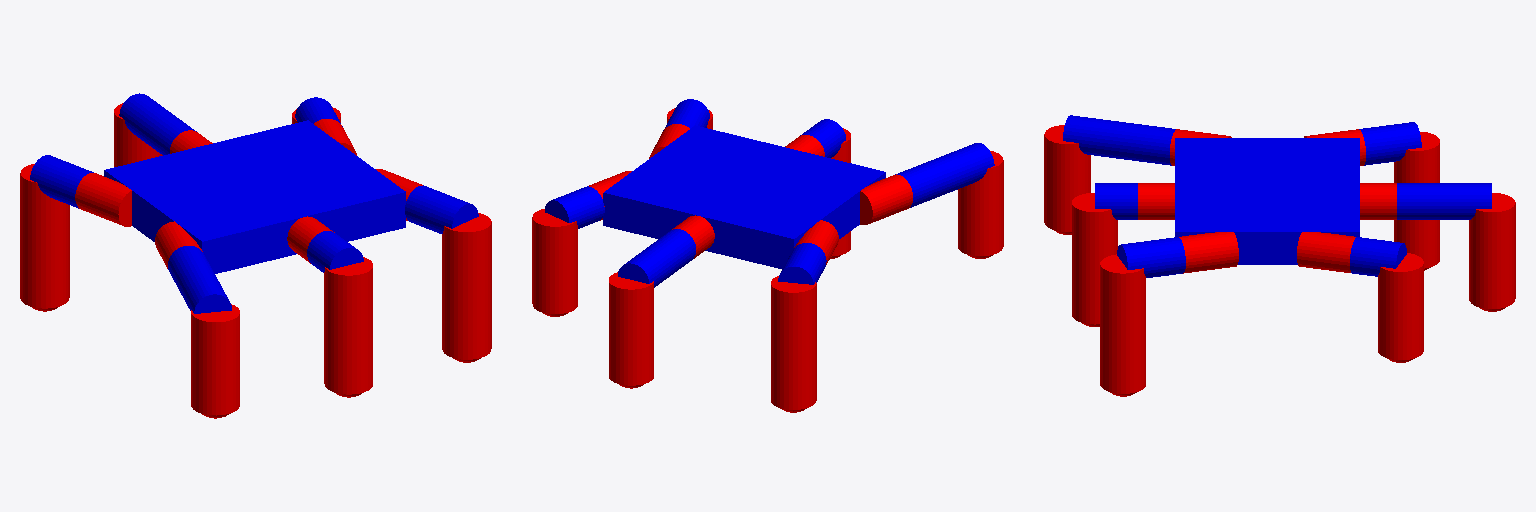
--- Facts derived from the render (not from the file) ---
The picture shows the robot from 3 angles, left to right: view 1: azimuth 30°, elevation 25°; view 2: azimuth 150°, elevation 25°; view 3: azimuth 270°, elevation 25°; orthographic projection.
Model pexod with 19 links and 18 joints (18 revolute), rooted at base_link, posed all joints at 0.
Links seen in each view (by area): view 1: base_link, leg_3_3, leg_4_3, leg_0_3, leg_5_3, leg_5_2, leg_1_2, leg_3_2, leg_0_1, leg_0_2, leg_4_2, leg_1_3 (+5 smaller); view 2: base_link, leg_0_3, leg_1_3, leg_2_3, leg_5_3, leg_5_2, leg_1_2, leg_5_1, leg_2_2, leg_0_2, leg_4_2, leg_3_2 (+3 smaller); view 3: base_link, leg_3_3, leg_1_3, leg_2_3, leg_4_3, leg_5_2, leg_5_3, leg_0_3, leg_1_2, leg_3_2, leg_3_1, leg_2_1 (+5 smaller).
Boxes of the visible links, bbox=[...] form: base_link: bbox=[104, 120, 405, 273]; leg_3_3: bbox=[442, 213, 491, 362]; leg_4_3: bbox=[324, 257, 372, 397]; leg_0_3: bbox=[20, 164, 69, 311]; leg_5_3: bbox=[191, 304, 239, 418]; leg_5_2: bbox=[168, 246, 231, 313]; leg_1_2: bbox=[119, 93, 196, 155]; leg_3_2: bbox=[405, 185, 478, 233]; leg_0_1: bbox=[75, 173, 131, 226]; leg_0_2: bbox=[30, 155, 93, 208]; leg_4_2: bbox=[307, 231, 363, 272]; leg_1_3: bbox=[114, 103, 162, 166]; base_link: bbox=[603, 125, 885, 268]; leg_0_3: bbox=[771, 276, 816, 412]; leg_1_3: bbox=[609, 272, 653, 388]; leg_2_3: bbox=[532, 209, 577, 316]; leg_5_3: bbox=[958, 151, 1003, 258]; leg_5_2: bbox=[895, 143, 994, 207]; leg_1_2: bbox=[618, 229, 695, 287]; leg_5_1: bbox=[860, 174, 912, 224]; leg_2_2: bbox=[545, 186, 604, 228]; leg_0_2: bbox=[778, 243, 826, 284]; leg_4_2: bbox=[800, 119, 845, 157]; leg_3_2: bbox=[663, 99, 709, 130]; base_link: bbox=[1175, 138, 1359, 264]; leg_3_3: bbox=[1100, 254, 1145, 396]; leg_1_3: bbox=[1469, 193, 1515, 311]; leg_2_3: bbox=[1378, 253, 1423, 362]; leg_4_3: bbox=[1072, 193, 1117, 326]; leg_5_2: bbox=[1063, 115, 1175, 165]; leg_5_3: bbox=[1044, 125, 1090, 234]; leg_0_3: bbox=[1394, 132, 1439, 270]; leg_1_2: bbox=[1397, 183, 1491, 219]; leg_3_2: bbox=[1117, 237, 1185, 277]; leg_3_1: bbox=[1179, 232, 1238, 273]; leg_2_1: bbox=[1297, 232, 1355, 272].
Size in the robot's own frame: 0.3802 by 0.5086 by 0.1759 metres.
Geometry: primitives only (box / cylinder / sphere), no mesh files.

robot.urdf — pexod:
<?xml version="1.0" ?>
<!-- =================================================================================== -->
<!-- |    This document was autogenerated by xacro from pexod.xacro                    | -->
<!-- |    EDITING THIS FILE BY HAND IS NOT RECOMMENDED                                 | -->
<!-- =================================================================================== -->
<robot name="pexod" xmlns:xacro="http://www.ros.org/wiki/xacro">
  <!-- <xacro:include filename="$(find pexod_description)/urdf/pexod_control.xacro" /> -->
  <!-- MATERIALS -->
  <material name="Blue">
    <color rgba="0 0 1 1"/>
  </material>
  <material name="Red">
    <color rgba="1 0 0 1"/>
  </material>
  <material name="Green">
    <color rgba="0 1 0 1"/>
  </material>
  <material name="Yellow">
    <color rgba="1 1 0 1"/>
  </material>
  <material name="LightGrey">
    <color rgba="0.6 0.6 0.6 1.0"/>
  </material>
  <!-- END OF MATERIALS -->
  <!-- XACRO MACROS FOR VISUALS AND COLLISIONS -->
  <!-- END OF XACRO MACROS -->
  <!-- TORSO -->
  <link name="base_link">
    <visual>
      <origin rpy="0 0 0" xyz="0 0 0"/>
      <geometry>
        <box size="0.24 0.2 0.04"/>
      </geometry>
      <material name="Blue"/>
    </visual>
    <collision>
      <origin rpy="0 0 0" xyz="0 0 0"/>
      <geometry>
        <box size="0.24 0.2 0.04"/>
      </geometry>
    </collision>
    <inertial>
      <!-- CENTER OF MASS -->
      <origin rpy="0 0 0" xyz="0 0 0"/>
      <mass value="1.031"/>
      <!-- box inertia: 1/12*m(y^2+z^2), ... -->
      <inertia ixx="0.00357413333333" ixy="0" ixz="0" iyy="0.00508626666667" iyz="0" izz="0.00838546666667"/>
    </inertial>
  </link>
  <!-- XACRO MACRO FOR LEGS LINKS/JOINTS -->
  <!-- END OF LEG LINKS/JOINTS -->
  <joint name="body_leg_2" type="revolute">
    <parent link="base_link"/>
    <child link="leg_2_1"/>
    <limit effort="30.0" lower="-1.57079632679" upper="1.57079632679" velocity="7.0"/>
    <origin rpy="0 0 -0.3" xyz="0.11 0.04 0"/>
    <!-- <xacro:if value="${index == 5 or index == 4 or index == 3}">
                <axis xyz="0 0 1"/>
            </xacro:if>
            <xacro:if value="${index == 2 or index == 1 or index == 0}"> -->
    <axis xyz="0 0 1"/>
    <!-- </xacro:if> -->
    <dynamics damping="0.0"/>
  </joint>
  <link name="leg_2_1">
    <visual>
      <origin rpy="1.57079632679 0 0" xyz="0.01 0.03 0"/>
      <geometry>
        <cylinder length="0.06" radius="0.02"/>
      </geometry>
      <material name="Red"/>
    </visual>
    <collision>
      <origin rpy="1.57079632679 0 0" xyz="0.01 0.03 0"/>
      <geometry>
        <box size="0.02 0.02 0.06"/>
      </geometry>
    </collision>
    <inertial>
      <!-- CENTER OF MASS -->
      <origin rpy="1.57079632679 0 0" xyz="0.01 0.03 0"/>
      <mass value="0.02"/>
      <!-- box inertia: 1/12*m(y^2+z^2), ... -->
      <inertia ixx="6.66666666667e-06" ixy="0" ixz="0" iyy="6.66666666667e-06" iyz="0" izz="1.33333333333e-06"/>
    </inertial>
  </link>
  <joint name="leg_2_1_2" type="revolute">
    <parent link="leg_2_1"/>
    <child link="leg_2_2"/>
    <limit effort="30.0" lower="-0.78539816339" upper="0.78539816339" velocity="7.0"/>
    <origin rpy="0 0 0" xyz="0 0.06 0"/>
    <axis xyz="1 0 0"/>
    <dynamics damping="0.0"/>
  </joint>
  <link name="leg_2_2">
    <visual>
      <origin rpy="1.57079632679 0 0" xyz="0.01 0.0261431791119 0"/>
      <geometry>
        <cylinder length="0.0522863582237" radius="0.02"/>
      </geometry>
      <material name="Blue"/>
    </visual>
    <collision>
      <origin rpy="1.57079632679 0 0" xyz="0.01 0.0261431791119 0"/>
      <geometry>
        <box size="0.02 0.02 0.0522863582237"/>
      </geometry>
    </collision>
    <inertial>
      <!-- CENTER OF MASS -->
      <origin rpy="1.57079632679 0 0" xyz="0.01 0.0261431791119 0"/>
      <mass value="0.184"/>
      <!-- box inertia: 1/12*m(y^2+z^2), ... -->
      <inertia ixx="4.80525699299e-05" ixy="0" ixz="0" iyy="4.80525699299e-05" iyz="0" izz="1.22666666667e-05"/>
    </inertial>
  </link>
  <joint name="leg_2_2_3" type="revolute">
    <parent link="leg_2_2"/>
    <child link="leg_2_3"/>
    <limit effort="30.0" lower="-0.78539816339" upper="0.78539816339" velocity="7.0"/>
    <origin rpy="-1.57079632679 0 0" xyz="0 0.0522863582237 0"/>
    <axis xyz="-1 0 0"/>
    <dynamics damping="0.0"/>
  </joint>
  <link name="leg_2_3">
    <visual>
      <origin rpy="1.57079632679 0 0" xyz="0.0125 0.052553422207 0"/>
      <geometry>
        <cylinder length="0.105106844414" radius="0.025"/>
      </geometry>
      <material name="Red"/>
    </visual>
    <visual>
      <origin rpy="1.57079632679 0 0" xyz="0.0125 0.092606844414 0"/>
      <geometry>
        <sphere radius="0.025"/>
      </geometry>
      <material name="Red"/>
    </visual>
    <collision>
      <origin rpy="1.57079632679 0 0" xyz="0.0125 0.052553422207 0"/>
      <geometry>
        <box size="0.025 0.025 0.105106844414"/>
      </geometry>
    </collision>
    <collision>
      <origin rpy="1.57079632679 0 0" xyz="0.0125 0.092606844414 0"/>
      <geometry>
        <sphere radius="0.025"/>
      </geometry>
      <material name="Red"/>
    </collision>
    <inertial>
      <!-- CENTER OF MASS -->
      <origin rpy="1.57079632679 0 0" xyz="0.0125 0.052553422207 0"/>
      <mass value="0.04"/>
      <!-- box inertia: 1/12*m(y^2+z^2), ... -->
      <inertia ixx="3.89081624756e-05" ixy="0" ixz="0" iyy="3.89081624756e-05" iyz="0" izz="4.16666666667e-06"/>
    </inertial>
  </link>
  <joint name="body_leg_3" type="revolute">
    <parent link="base_link"/>
    <child link="leg_3_1"/>
    <limit effort="30.0" lower="-1.57079632679" upper="1.57079632679" velocity="7.0"/>
    <origin rpy="0 0 0.3" xyz="0.11 -0.04 0"/>
    <!-- <xacro:if value="${index == 5 or index == 4 or index == 3}">
                <axis xyz="0 0 1"/>
            </xacro:if>
            <xacro:if value="${index == 2 or index == 1 or index == 0}"> -->
    <axis xyz="0 0 1"/>
    <!-- </xacro:if> -->
    <dynamics damping="0.0"/>
  </joint>
  <link name="leg_3_1">
    <visual>
      <origin rpy="1.57079632679 0 0" xyz="0.01 -0.03 0"/>
      <geometry>
        <cylinder length="0.06" radius="0.02"/>
      </geometry>
      <material name="Red"/>
    </visual>
    <collision>
      <origin rpy="1.57079632679 0 0" xyz="0.01 -0.03 0"/>
      <geometry>
        <box size="0.02 0.02 0.06"/>
      </geometry>
    </collision>
    <inertial>
      <!-- CENTER OF MASS -->
      <origin rpy="1.57079632679 0 0" xyz="0.01 -0.03 0"/>
      <mass value="0.02"/>
      <!-- box inertia: 1/12*m(y^2+z^2), ... -->
      <inertia ixx="6.66666666667e-06" ixy="0" ixz="0" iyy="6.66666666667e-06" iyz="0" izz="1.33333333333e-06"/>
    </inertial>
  </link>
  <joint name="leg_3_1_2" type="revolute">
    <parent link="leg_3_1"/>
    <child link="leg_3_2"/>
    <limit effort="30.0" lower="-0.78539816339" upper="0.78539816339" velocity="7.0"/>
    <origin rpy="0 0 0" xyz="0 -0.06 0"/>
    <axis xyz="-1 0 0"/>
    <dynamics damping="0.0"/>
  </joint>
  <link name="leg_3_2">
    <visual>
      <origin rpy="1.57079632679 0 0" xyz="0.01 -0.0326966292949 0"/>
      <geometry>
        <cylinder length="0.0653932585898" radius="0.02"/>
      </geometry>
      <material name="Blue"/>
    </visual>
    <collision>
      <origin rpy="1.57079632679 0 0" xyz="0.01 -0.0326966292949 0"/>
      <geometry>
        <box size="0.02 0.02 0.0653932585898"/>
      </geometry>
    </collision>
    <inertial>
      <!-- CENTER OF MASS -->
      <origin rpy="1.57079632679 0 0" xyz="0.01 -0.0326966292949 0"/>
      <mass value="0.184"/>
      <!-- box inertia: 1/12*m(y^2+z^2), ... -->
      <inertia ixx="7.17029334579e-05" ixy="0" ixz="0" iyy="7.17029334579e-05" iyz="0" izz="1.22666666667e-05"/>
    </inertial>
  </link>
  <joint name="leg_3_2_3" type="revolute">
    <parent link="leg_3_2"/>
    <child link="leg_3_3"/>
    <limit effort="30.0" lower="-0.78539816339" upper="0.78539816339" velocity="7.0"/>
    <origin rpy="1.57079632679 0 0" xyz="0 -0.0653932585898 0"/>
    <axis xyz="1 0 0"/>
    <dynamics damping="0.0"/>
  </joint>
  <link name="leg_3_3">
    <visual>
      <origin rpy="1.57079632679 0 0" xyz="0.0125 -0.071716088422 0"/>
      <geometry>
        <cylinder length="0.143432176844" radius="0.025"/>
      </geometry>
      <material name="Red"/>
    </visual>
    <visual>
      <origin rpy="1.57079632679 0 0" xyz="0.0125 -0.130932176844 0"/>
      <geometry>
        <sphere radius="0.025"/>
      </geometry>
      <material name="Red"/>
    </visual>
    <collision>
      <origin rpy="1.57079632679 0 0" xyz="0.0125 -0.071716088422 0"/>
      <geometry>
        <box size="0.025 0.025 0.143432176844"/>
      </geometry>
    </collision>
    <collision>
      <origin rpy="1.57079632679 0 0" xyz="0.0125 -0.130932176844 0"/>
      <geometry>
        <sphere radius="0.025"/>
      </geometry>
      <material name="Red"/>
    </collision>
    <inertial>
      <!-- CENTER OF MASS -->
      <origin rpy="1.57079632679 0 0" xyz="0.0125 -0.071716088422 0"/>
      <mass value="0.04"/>
      <!-- box inertia: 1/12*m(y^2+z^2), ... -->
      <inertia ixx="7.06592978474e-05" ixy="0" ixz="0" iyy="7.06592978474e-05" iyz="0" izz="4.16666666667e-06"/>
    </inertial>
  </link>
  <joint name="body_leg_0" type="revolute">
    <parent link="base_link"/>
    <child link="leg_0_1"/>
    <limit effort="30.0" lower="-1.57079632679" upper="1.57079632679" velocity="7.0"/>
    <origin rpy="0 0 0.3" xyz="-0.13 0.04 0"/>
    <!-- <xacro:if value="${index == 5 or index == 4 or index == 3}">
                <axis xyz="0 0 1"/>
            </xacro:if>
            <xacro:if value="${index == 2 or index == 1 or index == 0}"> -->
    <axis xyz="0 0 1"/>
    <!-- </xacro:if> -->
    <dynamics damping="0.0"/>
  </joint>
  <link name="leg_0_1">
    <visual>
      <origin rpy="1.57079632679 0 0" xyz="0.01 0.03 0"/>
      <geometry>
        <cylinder length="0.06" radius="0.02"/>
      </geometry>
      <material name="Red"/>
    </visual>
    <collision>
      <origin rpy="1.57079632679 0 0" xyz="0.01 0.03 0"/>
      <geometry>
        <box size="0.02 0.02 0.06"/>
      </geometry>
    </collision>
    <inertial>
      <!-- CENTER OF MASS -->
      <origin rpy="1.57079632679 0 0" xyz="0.01 0.03 0"/>
      <mass value="0.02"/>
      <!-- box inertia: 1/12*m(y^2+z^2), ... -->
      <inertia ixx="6.66666666667e-06" ixy="0" ixz="0" iyy="6.66666666667e-06" iyz="0" izz="1.33333333333e-06"/>
    </inertial>
  </link>
  <joint name="leg_0_1_2" type="revolute">
    <parent link="leg_0_1"/>
    <child link="leg_0_2"/>
    <limit effort="30.0" lower="-0.78539816339" upper="0.78539816339" velocity="7.0"/>
    <origin rpy="0 0 0" xyz="0 0.06 0"/>
    <axis xyz="1 0 0"/>
    <dynamics damping="0.0"/>
  </joint>
  <link name="leg_0_2">
    <visual>
      <origin rpy="1.57079632679 0 0" xyz="0.01 0.0314343594248 0"/>
      <geometry>
        <cylinder length="0.0628687188497" radius="0.02"/>
      </geometry>
      <material name="Blue"/>
    </visual>
    <collision>
      <origin rpy="1.57079632679 0 0" xyz="0.01 0.0314343594248 0"/>
      <geometry>
        <box size="0.02 0.02 0.0628687188497"/>
      </geometry>
    </collision>
    <inertial>
      <!-- CENTER OF MASS -->
      <origin rpy="1.57079632679 0 0" xyz="0.01 0.0314343594248 0"/>
      <mass value="0.184"/>
      <!-- box inertia: 1/12*m(y^2+z^2), ... -->
      <inertia ixx="6.6737962417e-05" ixy="0" ixz="0" iyy="6.6737962417e-05" iyz="0" izz="1.22666666667e-05"/>
    </inertial>
  </link>
  <joint name="leg_0_2_3" type="revolute">
    <parent link="leg_0_2"/>
    <child link="leg_0_3"/>
    <limit effort="30.0" lower="-0.78539816339" upper="0.78539816339" velocity="7.0"/>
    <origin rpy="-1.57079632679 0 0" xyz="0 0.0628687188497 0"/>
    <axis xyz="-1 0 0"/>
    <dynamics damping="0.0"/>
  </joint>
  <link name="leg_0_3">
    <visual>
      <origin rpy="1.57079632679 0 0" xyz="0.0125 0.0704255470545 0"/>
      <geometry>
        <cylinder length="0.140851094109" radius="0.025"/>
      </geometry>
      <material name="Red"/>
    </visual>
    <visual>
      <origin rpy="1.57079632679 0 0" xyz="0.0125 0.128351094109 0"/>
      <geometry>
        <sphere radius="0.025"/>
      </geometry>
      <material name="Red"/>
    </visual>
    <collision>
      <origin rpy="1.57079632679 0 0" xyz="0.0125 0.0704255470545 0"/>
      <geometry>
        <box size="0.025 0.025 0.140851094109"/>
      </geometry>
    </collision>
    <collision>
      <origin rpy="1.57079632679 0 0" xyz="0.0125 0.128351094109 0"/>
      <geometry>
        <sphere radius="0.025"/>
      </geometry>
      <material name="Red"/>
    </collision>
    <inertial>
      <!-- CENTER OF MASS -->
      <origin rpy="1.57079632679 0 0" xyz="0.0125 0.0704255470545 0"/>
      <mass value="0.04"/>
      <!-- box inertia: 1/12*m(y^2+z^2), ... -->
      <inertia ixx="6.82134357057e-05" ixy="0" ixz="0" iyy="6.82134357057e-05" iyz="0" izz="4.16666666667e-06"/>
    </inertial>
  </link>
  <joint name="body_leg_5" type="revolute">
    <parent link="base_link"/>
    <child link="leg_5_1"/>
    <limit effort="30.0" lower="-1.57079632679" upper="1.57079632679" velocity="7.0"/>
    <origin rpy="0 0 -0.3" xyz="-0.13 -0.04 0"/>
    <!-- <xacro:if value="${index == 5 or index == 4 or index == 3}">
                <axis xyz="0 0 1"/>
            </xacro:if>
            <xacro:if value="${index == 2 or index == 1 or index == 0}"> -->
    <axis xyz="0 0 1"/>
    <!-- </xacro:if> -->
    <dynamics damping="0.0"/>
  </joint>
  <link name="leg_5_1">
    <visual>
      <origin rpy="1.57079632679 0 0" xyz="0.01 -0.03 0"/>
      <geometry>
        <cylinder length="0.06" radius="0.02"/>
      </geometry>
      <material name="Red"/>
    </visual>
    <collision>
      <origin rpy="1.57079632679 0 0" xyz="0.01 -0.03 0"/>
      <geometry>
        <box size="0.02 0.02 0.06"/>
      </geometry>
    </collision>
    <inertial>
      <!-- CENTER OF MASS -->
      <origin rpy="1.57079632679 0 0" xyz="0.01 -0.03 0"/>
      <mass value="0.02"/>
      <!-- box inertia: 1/12*m(y^2+z^2), ... -->
      <inertia ixx="6.66666666667e-06" ixy="0" ixz="0" iyy="6.66666666667e-06" iyz="0" izz="1.33333333333e-06"/>
    </inertial>
  </link>
  <joint name="leg_5_1_2" type="revolute">
    <parent link="leg_5_1"/>
    <child link="leg_5_2"/>
    <limit effort="30.0" lower="-0.78539816339" upper="0.78539816339" velocity="7.0"/>
    <origin rpy="0 0 0" xyz="0 -0.06 0"/>
    <axis xyz="-1 0 0"/>
    <dynamics damping="0.0"/>
  </joint>
  <link name="leg_5_2">
    <visual>
      <origin rpy="1.57079632679 0 0" xyz="0.01 -0.060329994036 0"/>
      <geometry>
        <cylinder length="0.120659988072" radius="0.02"/>
      </geometry>
      <material name="Blue"/>
    </visual>
    <collision>
      <origin rpy="1.57079632679 0 0" xyz="0.01 -0.060329994036 0"/>
      <geometry>
        <box size="0.02 0.02 0.120659988072"/>
      </geometry>
    </collision>
    <inertial>
      <!-- CENTER OF MASS -->
      <origin rpy="1.57079632679 0 0" xyz="0.01 -0.060329994036 0"/>
      <mass value="0.184"/>
      <!-- box inertia: 1/12*m(y^2+z^2), ... -->
      <inertia ixx="0.000229368768397" ixy="0" ixz="0" iyy="0.000229368768397" iyz="0" izz="1.22666666667e-05"/>
    </inertial>
  </link>
  <joint name="leg_5_2_3" type="revolute">
    <parent link="leg_5_2"/>
    <child link="leg_5_3"/>
    <limit effort="30.0" lower="-0.78539816339" upper="0.78539816339" velocity="7.0"/>
    <origin rpy="1.57079632679 0 0" xyz="0 -0.120659988072 0"/>
    <axis xyz="1 0 0"/>
    <dynamics damping="0.0"/>
  </joint>
  <link name="leg_5_3">
    <visual>
      <origin rpy="1.57079632679 0 0" xyz="0.0125 -0.0523338663745 0"/>
      <geometry>
        <cylinder length="0.104667732749" radius="0.025"/>
      </geometry>
      <material name="Red"/>
    </visual>
    <visual>
      <origin rpy="1.57079632679 0 0" xyz="0.0125 -0.092167732749 0"/>
      <geometry>
        <sphere radius="0.025"/>
      </geometry>
      <material name="Red"/>
    </visual>
    <collision>
      <origin rpy="1.57079632679 0 0" xyz="0.0125 -0.0523338663745 0"/>
      <geometry>
        <box size="0.025 0.025 0.104667732749"/>
      </geometry>
    </collision>
    <collision>
      <origin rpy="1.57079632679 0 0" xyz="0.0125 -0.092167732749 0"/>
      <geometry>
        <sphere radius="0.025"/>
      </geometry>
      <material name="Red"/>
    </collision>
    <inertial>
      <!-- CENTER OF MASS -->
      <origin rpy="1.57079632679 0 0" xyz="0.0125 -0.0523338663745 0"/>
      <mass value="0.04"/>
      <!-- box inertia: 1/12*m(y^2+z^2), ... -->
      <inertia ixx="3.86011142627e-05" ixy="0" ixz="0" iyy="3.86011142627e-05" iyz="0" izz="4.16666666667e-06"/>
    </inertial>
  </link>
  <joint name="body_leg_1" type="revolute">
    <parent link="base_link"/>
    <child link="leg_1_1"/>
    <limit effort="30.0" lower="-1.57079632679" upper="1.57079632679" velocity="7.0"/>
    <origin rpy="0 0 0" xyz="-0.01 0.08 0"/>
    <!-- <xacro:if value="${index == 5 or index == 4 or index == 3}">
                <axis xyz="0 0 1"/>
            </xacro:if>
            <xacro:if value="${index == 2 or index == 1 or index == 0}"> -->
    <axis xyz="0 0 1"/>
    <!-- </xacro:if> -->
    <dynamics damping="0.0"/>
  </joint>
  <link name="leg_1_1">
    <visual>
      <origin rpy="1.57079632679 0 0" xyz="0.01 0.03 0"/>
      <geometry>
        <cylinder length="0.06" radius="0.02"/>
      </geometry>
      <material name="Red"/>
    </visual>
    <collision>
      <origin rpy="1.57079632679 0 0" xyz="0.01 0.03 0"/>
      <geometry>
        <box size="0.02 0.02 0.06"/>
      </geometry>
    </collision>
    <inertial>
      <!-- CENTER OF MASS -->
      <origin rpy="1.57079632679 0 0" xyz="0.01 0.03 0"/>
      <mass value="0.02"/>
      <!-- box inertia: 1/12*m(y^2+z^2), ... -->
      <inertia ixx="6.66666666667e-06" ixy="0" ixz="0" iyy="6.66666666667e-06" iyz="0" izz="1.33333333333e-06"/>
    </inertial>
  </link>
  <joint name="leg_1_1_2" type="revolute">
    <parent link="leg_1_1"/>
    <child link="leg_1_2"/>
    <limit effort="30.0" lower="-0.78539816339" upper="0.78539816339" velocity="7.0"/>
    <origin rpy="0 0 0" xyz="0 0.06 0"/>
    <axis xyz="1 0 0"/>
    <dynamics damping="0.0"/>
  </joint>
  <link name="leg_1_2">
    <visual>
      <origin rpy="1.57079632679 0 0" xyz="0.01 0.0512169972375 0"/>
      <geometry>
        <cylinder length="0.102433994475" radius="0.02"/>
      </geometry>
      <material name="Blue"/>
    </visual>
    <collision>
      <origin rpy="1.57079632679 0 0" xyz="0.01 0.0512169972375 0"/>
      <geometry>
        <box size="0.02 0.02 0.102433994475"/>
      </geometry>
    </collision>
    <inertial>
      <!-- CENTER OF MASS -->
      <origin rpy="1.57079632679 0 0" xyz="0.01 0.0512169972375 0"/>
      <mass value="0.184"/>
      <!-- box inertia: 1/12*m(y^2+z^2), ... -->
      <inertia ixx="0.000167021756103" ixy="0" ixz="0" iyy="0.000167021756103" iyz="0" izz="1.22666666667e-05"/>
    </inertial>
  </link>
  <joint name="leg_1_2_3" type="revolute">
    <parent link="leg_1_2"/>
    <child link="leg_1_3"/>
    <limit effort="30.0" lower="-0.78539816339" upper="0.78539816339" velocity="7.0"/>
    <origin rpy="-1.57079632679 0 0" xyz="0 0.102433994475 0"/>
    <axis xyz="-1 0 0"/>
    <dynamics damping="0.0"/>
  </joint>
  <link name="leg_1_3">
    <visual>
      <origin rpy="1.57079632679 0 0" xyz="0.0125 0.0576909262705 0"/>
      <geometry>
        <cylinder length="0.115381852541" radius="0.025"/>
      </geometry>
      <material name="Red"/>
    </visual>
    <visual>
      <origin rpy="1.57079632679 0 0" xyz="0.0125 0.102881852541 0"/>
      <geometry>
        <sphere radius="0.025"/>
      </geometry>
      <material name="Red"/>
    </visual>
    <collision>
      <origin rpy="1.57079632679 0 0" xyz="0.0125 0.0576909262705 0"/>
      <geometry>
        <box size="0.025 0.025 0.115381852541"/>
      </geometry>
    </collision>
    <collision>
      <origin rpy="1.57079632679 0 0" xyz="0.0125 0.102881852541 0"/>
      <geometry>
        <sphere radius="0.025"/>
      </geometry>
      <material name="Red"/>
    </collision>
    <inertial>
      <!-- CENTER OF MASS -->
      <origin rpy="1.57079632679 0 0" xyz="0.0125 0.0576909262705 0"/>
      <mass value="0.04"/>
      <!-- box inertia: 1/12*m(y^2+z^2), ... -->
      <inertia ixx="4.64599063193e-05" ixy="0" ixz="0" iyy="4.64599063193e-05" iyz="0" izz="4.16666666667e-06"/>
    </inertial>
  </link>
  <joint name="body_leg_4" type="revolute">
    <parent link="base_link"/>
    <child link="leg_4_1"/>
    <limit effort="30.0" lower="-1.57079632679" upper="1.57079632679" velocity="7.0"/>
    <origin rpy="0 0 0" xyz="-0.01 -0.08 0"/>
    <!-- <xacro:if value="${index == 5 or index == 4 or index == 3}">
                <axis xyz="0 0 1"/>
            </xacro:if>
            <xacro:if value="${index == 2 or index == 1 or index == 0}"> -->
    <axis xyz="0 0 1"/>
    <!-- </xacro:if> -->
    <dynamics damping="0.0"/>
  </joint>
  <link name="leg_4_1">
    <visual>
      <origin rpy="1.57079632679 0 0" xyz="0.01 -0.03 0"/>
      <geometry>
        <cylinder length="0.06" radius="0.02"/>
      </geometry>
      <material name="Red"/>
    </visual>
    <collision>
      <origin rpy="1.57079632679 0 0" xyz="0.01 -0.03 0"/>
      <geometry>
        <box size="0.02 0.02 0.06"/>
      </geometry>
    </collision>
    <inertial>
      <!-- CENTER OF MASS -->
      <origin rpy="1.57079632679 0 0" xyz="0.01 -0.03 0"/>
      <mass value="0.02"/>
      <!-- box inertia: 1/12*m(y^2+z^2), ... -->
      <inertia ixx="6.66666666667e-06" ixy="0" ixz="0" iyy="6.66666666667e-06" iyz="0" izz="1.33333333333e-06"/>
    </inertial>
  </link>
  <joint name="leg_4_1_2" type="revolute">
    <parent link="leg_4_1"/>
    <child link="leg_4_2"/>
    <limit effort="30.0" lower="-0.78539816339" upper="0.78539816339" velocity="7.0"/>
    <origin rpy="0 0 0" xyz="0 -0.06 0"/>
    <axis xyz="-1 0 0"/>
    <dynamics damping="0.0"/>
  </joint>
  <link name="leg_4_2">
    <visual>
      <origin rpy="1.57079632679 0 0" xyz="0.01 -0.0233296516256 0"/>
      <geometry>
        <cylinder length="0.0466593032512" radius="0.02"/>
      </geometry>
      <material name="Blue"/>
    </visual>
    <collision>
      <origin rpy="1.57079632679 0 0" xyz="0.01 -0.0233296516256 0"/>
      <geometry>
        <box size="0.02 0.02 0.0466593032512"/>
      </geometry>
    </collision>
    <inertial>
      <!-- CENTER OF MASS -->
      <origin rpy="1.57079632679 0 0" xyz="0.01 -0.0233296516256 0"/>
      <mass value="0.184"/>
      <!-- box inertia: 1/12*m(y^2+z^2), ... -->
      <inertia ixx="3.95153888916e-05" ixy="0" ixz="0" iyy="3.95153888916e-05" iyz="0" izz="1.22666666667e-05"/>
    </inertial>
  </link>
  <joint name="leg_4_2_3" type="revolute">
    <parent link="leg_4_2"/>
    <child link="leg_4_3"/>
    <limit effort="30.0" lower="-0.78539816339" upper="0.78539816339" velocity="7.0"/>
    <origin rpy="1.57079632679 0 0" xyz="0 -0.0466593032512 0"/>
    <axis xyz="1 0 0"/>
    <dynamics damping="0.0"/>
  </joint>
  <link name="leg_4_3">
    <visual>
      <origin rpy="1.57079632679 0 0" xyz="0.0125 -0.0668359815755 0"/>
      <geometry>
        <cylinder length="0.133671963151" radius="0.025"/>
      </geometry>
      <material name="Red"/>
    </visual>
    <visual>
      <origin rpy="1.57079632679 0 0" xyz="0.0125 -0.121171963151 0"/>
      <geometry>
        <sphere radius="0.025"/>
      </geometry>
      <material name="Red"/>
    </visual>
    <collision>
      <origin rpy="1.57079632679 0 0" xyz="0.0125 -0.0668359815755 0"/>
      <geometry>
        <box size="0.025 0.025 0.133671963151"/>
      </geometry>
    </collision>
    <collision>
      <origin rpy="1.57079632679 0 0" xyz="0.0125 -0.121171963151 0"/>
      <geometry>
        <sphere radius="0.025"/>
      </geometry>
      <material name="Red"/>
    </collision>
    <inertial>
      <!-- CENTER OF MASS -->
      <origin rpy="1.57079632679 0 0" xyz="0.0125 -0.0668359815755 0"/>
      <mass value="0.04"/>
      <!-- box inertia: 1/12*m(y^2+z^2), ... -->
      <inertia ixx="6.16439791088e-05" ixy="0" ixz="0" iyy="6.16439791088e-05" iyz="0" izz="4.16666666667e-06"/>
    </inertial>
  </link>
  <!-- END OF LEG LINKS/JOINTS -->
</robot>
